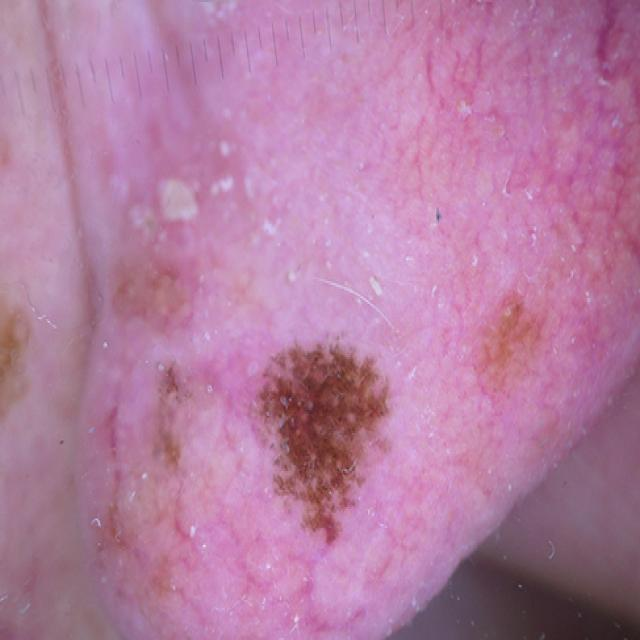Keratosis: (220, 318, 415, 566), (473, 124, 640, 390), (78, 246, 201, 538)
